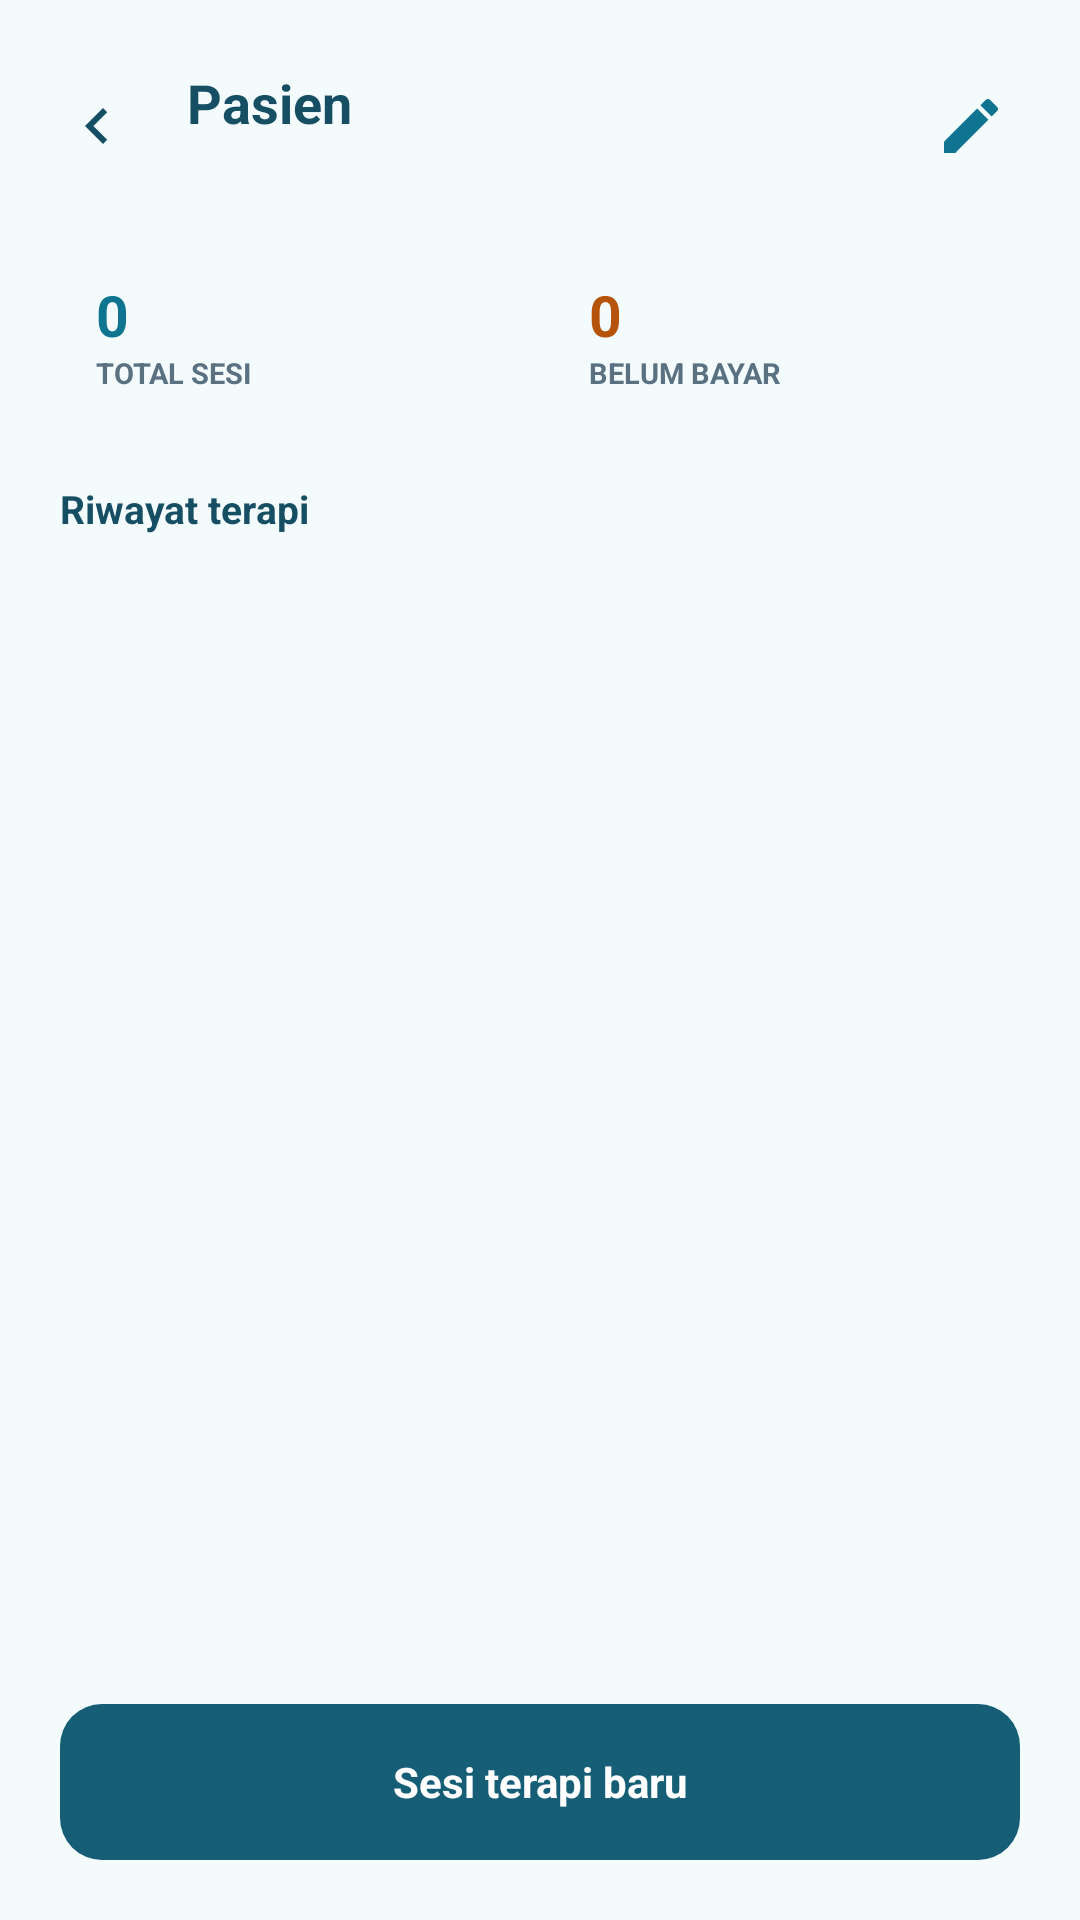

Locate icon controls on the screen. Image size 1080w x 1920h, boxes as (x1, y1, x2, y2).
Kembali: (85, 108, 107, 144)
